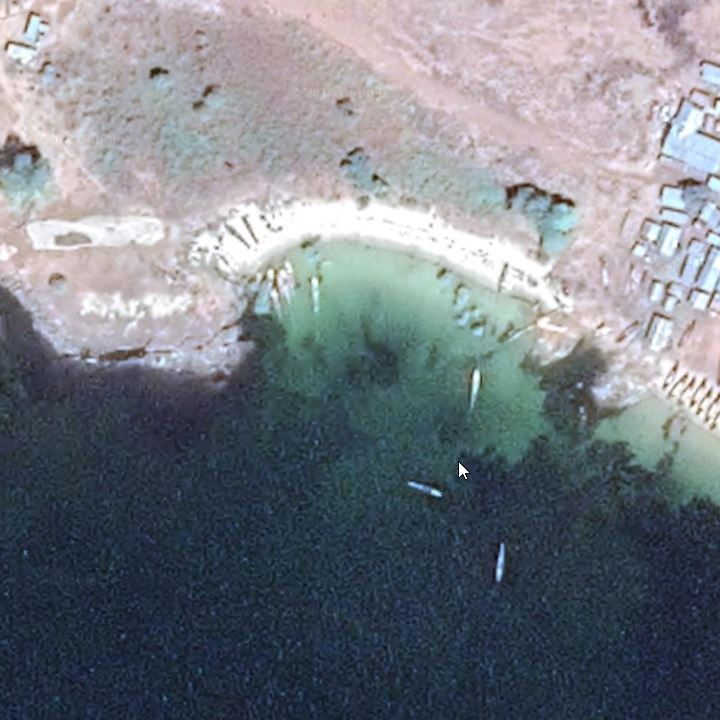boat: (220, 221, 252, 257), (402, 478, 446, 502), (466, 359, 485, 413), (491, 535, 508, 592), (594, 252, 615, 296), (675, 314, 699, 352), (240, 206, 261, 248), (664, 369, 690, 402), (273, 266, 293, 308), (263, 283, 284, 323), (661, 358, 682, 395), (308, 271, 324, 319), (677, 372, 697, 410), (614, 320, 645, 344), (283, 258, 300, 301), (495, 254, 511, 298), (689, 377, 709, 409), (695, 387, 715, 416), (702, 396, 720, 426), (710, 404, 720, 433)
